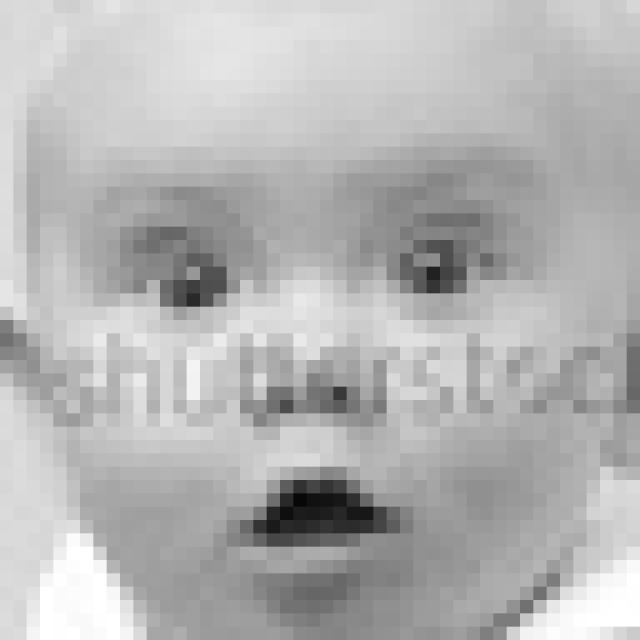surprise: (82, 116, 570, 585)
